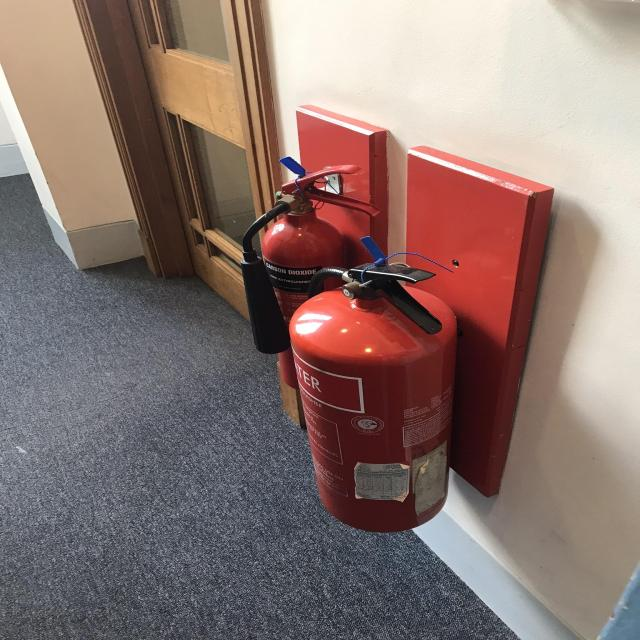fire_extinguisher: (282, 254, 464, 535), (238, 162, 386, 430)
